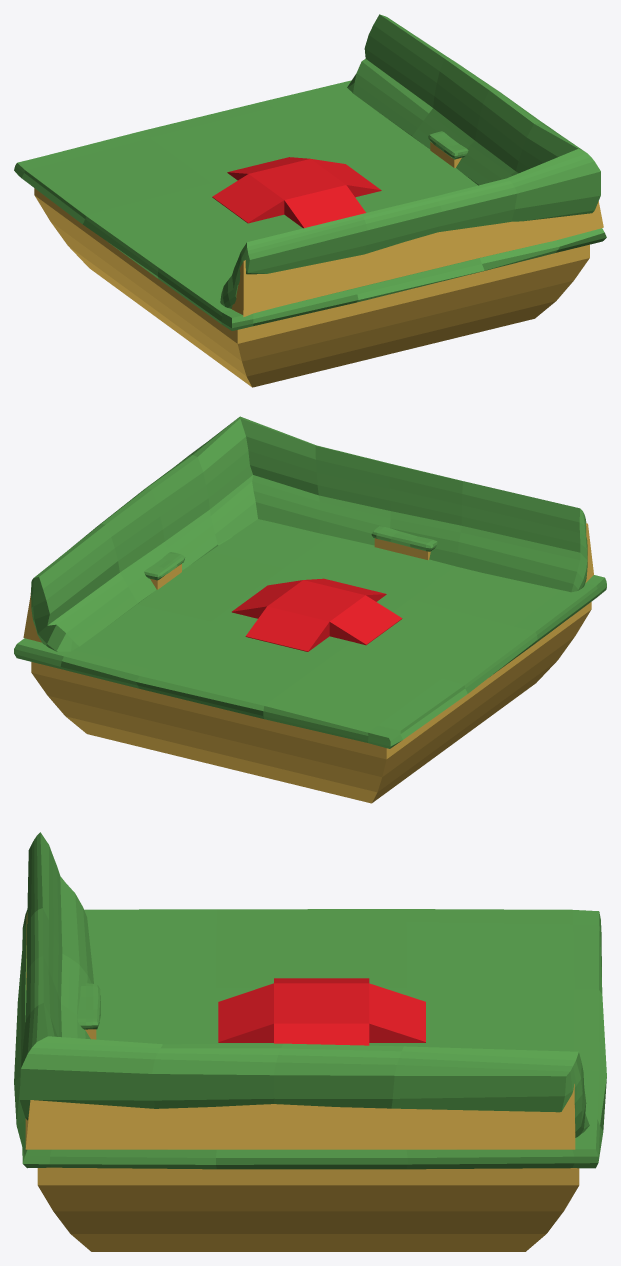
The model's file is level3.fbx.
The picture shows the model from 3 angles, top to bottom: view 1: azimuth 30°, elevation 25°; view 2: azimuth 150°, elevation 25°; view 3: azimuth 270°, elevation 25°; orthographic projection. The views are drawn at different scales.
Parts seen in each view (by area): view 1: Cube.001, Cube.008, Cube.002, Cube.007, Cube.003, Cube.004; view 2: Cube.001, Cube.008, Cube.002, Cube.003, Cube.006, Cube.007, Cube.004, Cube.005; view 3: Cube.001, Cube.008, Cube.002, Cube.007, Cube.003, Cube.006.
Part boxes in pixels (bbox=[...]): Cube.001: bbox=[14, 80, 606, 330]; Cube.008: bbox=[220, 14, 600, 308]; Cube.002: bbox=[34, 188, 589, 387]; Cube.007: bbox=[231, 201, 603, 316]; Cube.003: bbox=[212, 157, 381, 228]; Cube.004: bbox=[428, 131, 468, 159]; Cube.001: bbox=[14, 519, 606, 748]; Cube.008: bbox=[30, 416, 587, 651]; Cube.002: bbox=[31, 602, 591, 803]; Cube.003: bbox=[232, 578, 402, 651]; Cube.006: bbox=[371, 526, 437, 551]; Cube.007: bbox=[23, 523, 593, 642]; Cube.004: bbox=[144, 552, 185, 580]; Cube.005: bbox=[374, 538, 430, 559]; Cube.001: bbox=[14, 909, 606, 1169]; Cube.008: bbox=[19, 832, 589, 1137]; Cube.002: bbox=[37, 1167, 579, 1251]; Cube.007: bbox=[25, 912, 575, 1149]; Cube.003: bbox=[218, 978, 425, 1045]; Cube.006: bbox=[77, 983, 100, 1029].
Size of the model in its own units: 3668 by 1611 by 3711.
